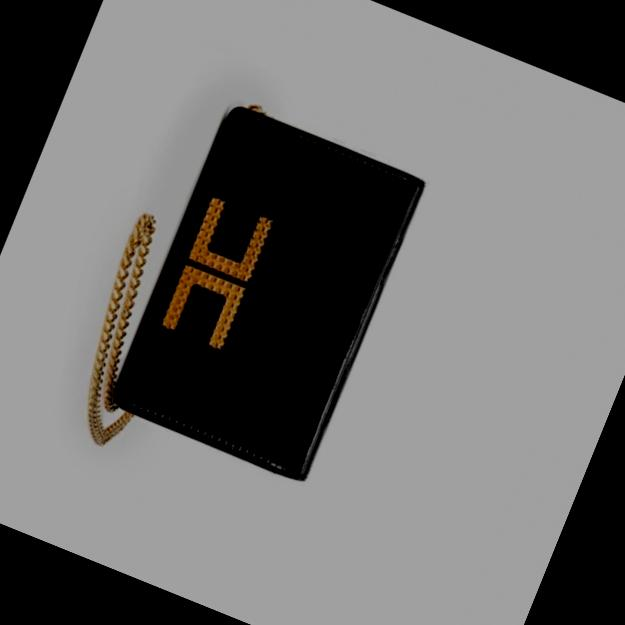ELISABETTA-FRANCHI: (144, 176, 292, 370)
